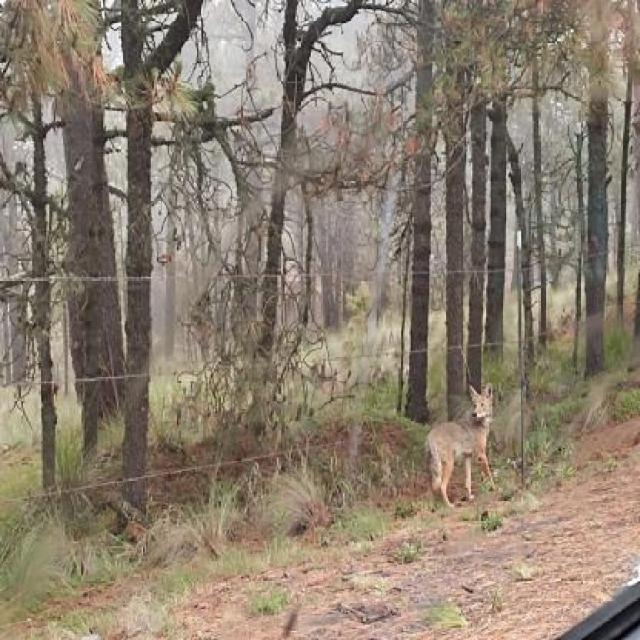Coyote: (426, 382, 494, 507)
